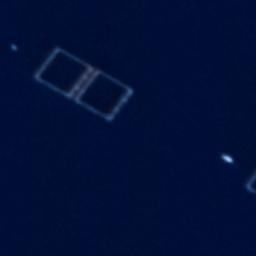square_solid: (27, 42, 99, 101), (68, 66, 139, 125)
